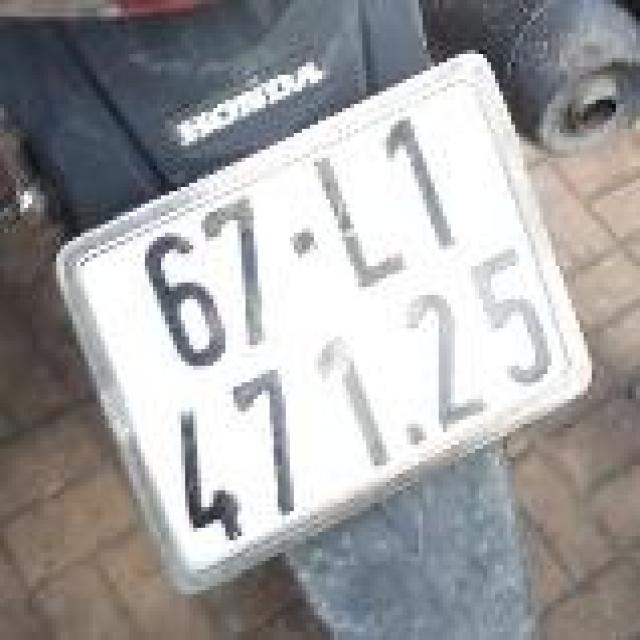1: (365, 98, 483, 266), (296, 316, 410, 488)
2: (384, 278, 504, 444)
4: (142, 385, 258, 562)
5: (450, 229, 571, 405)
6: (123, 219, 238, 381)
7: (191, 181, 301, 358), (216, 356, 321, 526)
L: (297, 142, 430, 307)
